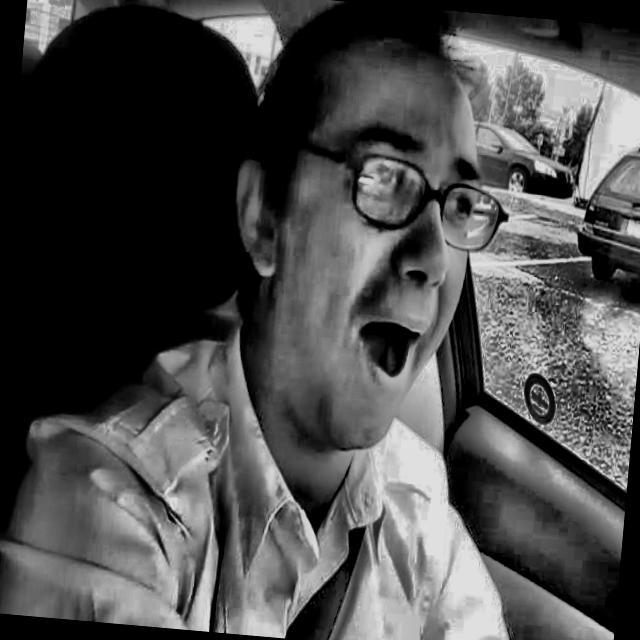open_eyes: (343, 148, 421, 221), (436, 176, 497, 244)
open_mouth: (342, 298, 441, 415)
